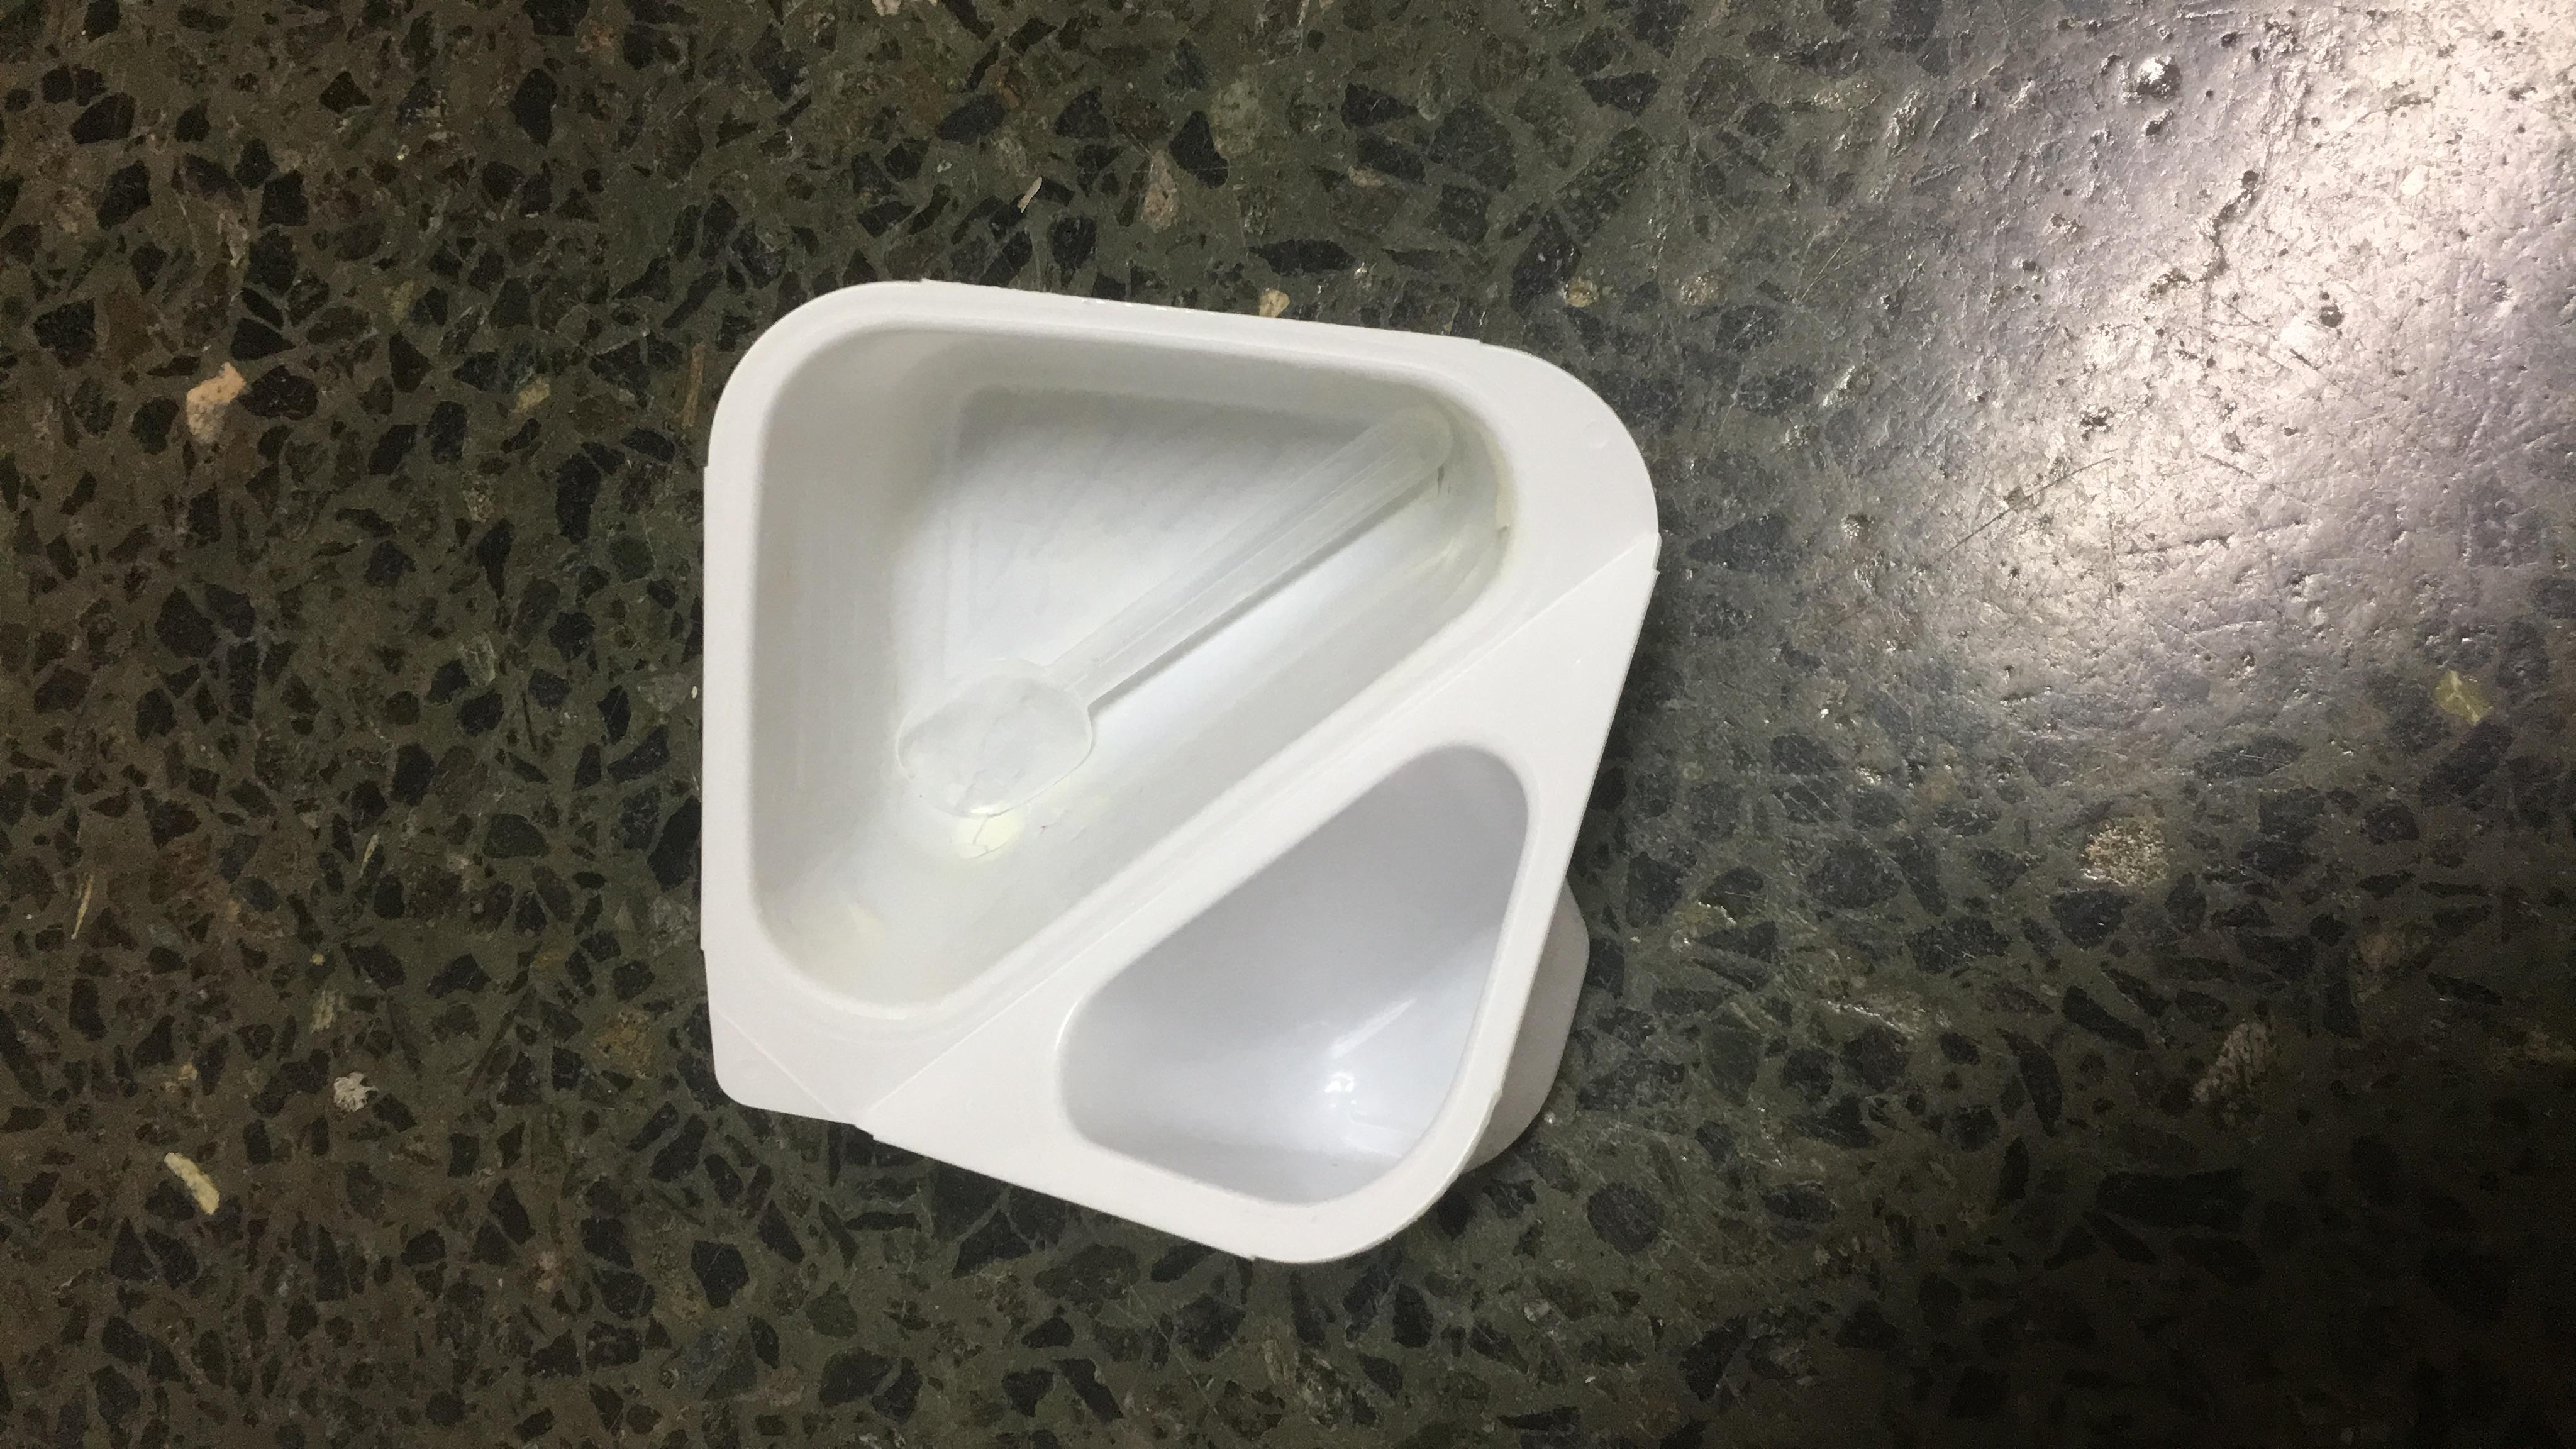bottle: (359, 398, 2100, 971)
